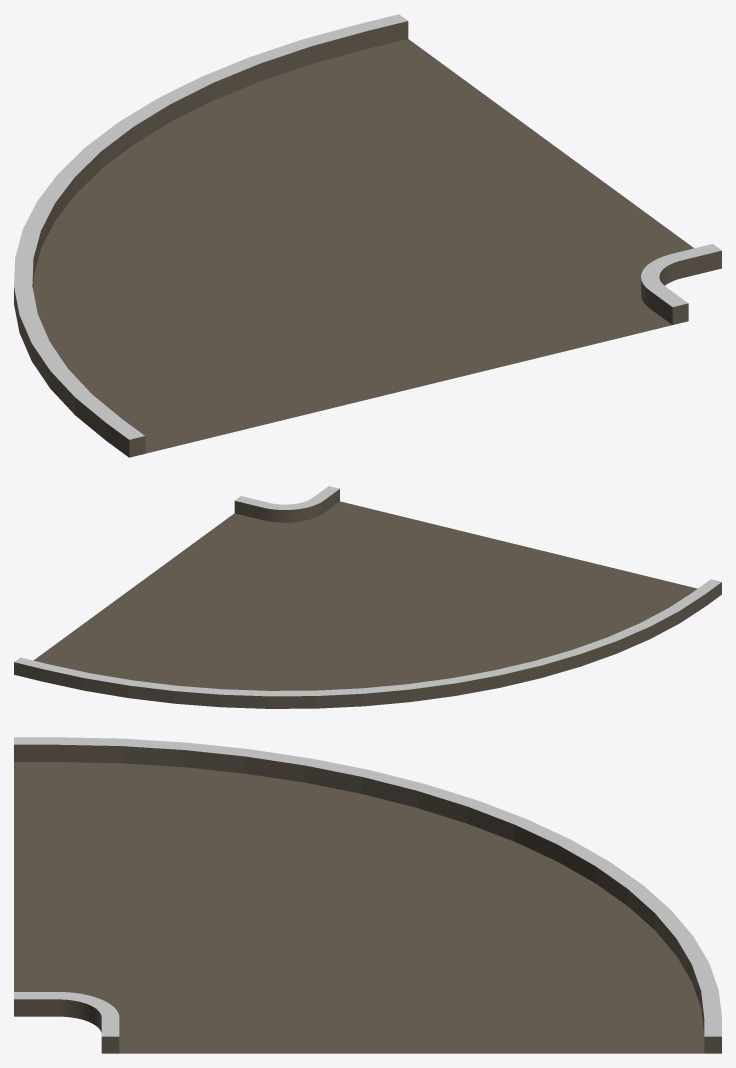
The model's file is s-90.edge.fbx.
The picture shows the model from 3 angles, top to bottom: view 1: azimuth 30°, elevation 25°; view 2: azimuth 150°, elevation 25°; view 3: azimuth 270°, elevation 25°; orthographic projection. The views are drawn at different scales.
Parts seen in each view (by area): view 1: s-90.edge; view 2: s-90.edge; view 3: s-90.edge.
Part boxes in pixels (x1,y1,x2,y2): s-90.edge: [14, 14, 721, 457]; s-90.edge: [14, 486, 721, 708]; s-90.edge: [14, 737, 721, 1053].
Bounding box in the file's own units: 2800 × 75 × 2800.
